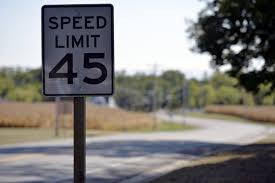speedLimit45: (38, 2, 118, 100)
